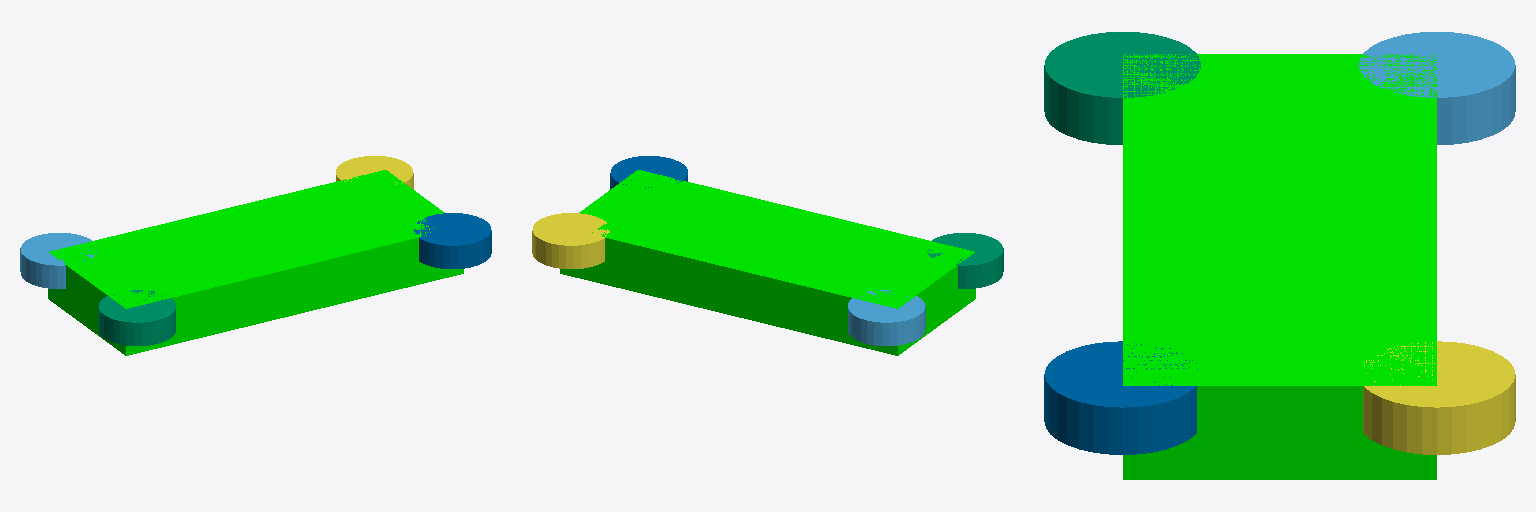
URDF robot description (ev_4wd):
<?xml version="1.0" ?>
<!-- =================================================================================== -->
<!-- |    This document was autogenerated by xacro from ev_4wd.urdf.xacro              | -->
<!-- |    EDITING THIS FILE BY HAND IS NOT RECOMMENDED                                 | -->
<!-- =================================================================================== -->
<robot name="ev_4wd">
  <!-- Base link (chassis) -->
  <link name="chassis">
    <inertial>
      <origin xyz="0 0 0.1"/>
      <mass value="250.0"/>
      <!-- Adjust the mass of the chassis as needed -->
      <inertia ixx="10.0" ixy="0.0" ixz="0.0" iyy="20.0" iyz="0.0" izz="30.0"/>
      <!-- Inertial properties -->
    </inertial>
    <visual>
      <geometry>
        <box size="1.5 0.6 0.2"/>
        <!-- Chassis dimensions: length, width, height -->
      </geometry>
      <material name="green">
        <color rgba="0.0 1.0 0.0 1.0"/>
        <!-- Chassis color: green -->
      </material>
    </visual>
    <collision>
      <geometry>
        <box size="1.5 0.6 0.2"/>
      </geometry>
    </collision>
  </link>
  <!-- Define the rear left wheel -->
  <link name="rear_left_wheel">
    <inertial>
      <origin xyz="0 0 0"/>
      <mass value="10.0"/>
      <!-- Mass of the rear left wheel -->
      <inertia ixx="0.02" ixy="0.0" ixz="0.0" iyy="0.02" iyz="0.0" izz="0.02"/>
      <!-- Inertial properties for the wheel -->
    </inertial>
    <visual>
      <geometry>
        <cylinder length="0.1" radius="0.15"/>
        <!-- Cylinder radius and length for the rear left wheel -->
      </geometry>
      <material name="black"/>
      <!-- Wheel color -->
    </visual>
    <collision>
      <geometry>
        <cylinder length="0.1" radius="0.15"/>
      </geometry>
    </collision>
  </link>
  <!-- Define the rear right wheel -->
  <link name="rear_right_wheel">
    <inertial>
      <origin xyz="0 0 0"/>
      <mass value="10.0"/>
      <!-- Mass of the rear right wheel -->
      <inertia ixx="0.02" ixy="0.0" ixz="0.0" iyy="0.02" iyz="0.0" izz="0.02"/>
      <!-- Inertial properties for the wheel -->
    </inertial>
    <visual>
      <geometry>
        <cylinder length="0.1" radius="0.15"/>
        <!-- Cylinder radius and length for the rear right wheel -->
      </geometry>
      <material name="black"/>
    </visual>
    <collision>
      <geometry>
        <cylinder length="0.1" radius="0.15"/>
      </geometry>
    </collision>
  </link>
  <!-- Define the front left wheel -->
  <link name="front_left_wheel">
    <inertial>
      <origin xyz="0 0 0"/>
      <mass value="10.0"/>
      <!-- Mass of the front left wheel -->
      <inertia ixx="0.02" ixy="0.0" ixz="0.0" iyy="0.02" iyz="0.0" izz="0.02"/>
      <!-- Inertial properties for the wheel -->
    </inertial>
    <visual>
      <geometry>
        <cylinder length="0.1" radius="0.15"/>
        <!-- Cylinder radius and length for the front left wheel -->
      </geometry>
      <material name="black"/>
    </visual>
    <collision>
      <geometry>
        <cylinder length="0.1" radius="0.15"/>
      </geometry>
    </collision>
  </link>
  <!-- Define the front right wheel -->
  <link name="front_right_wheel">
    <inertial>
      <origin xyz="0 0 0"/>
      <mass value="10.0"/>
      <!-- Mass of the front right wheel -->
      <inertia ixx="0.02" ixy="0.0" ixz="0.0" iyy="0.02" iyz="0.0" izz="0.02"/>
      <!-- Inertial properties for the wheel -->
    </inertial>
    <visual>
      <geometry>
        <cylinder length="0.1" radius="0.15"/>
        <!-- Cylinder radius and length for the front right wheel -->
      </geometry>
      <material name="black"/>
    </visual>
    <collision>
      <geometry>
        <cylinder length="0.1" radius="0.15"/>
      </geometry>
    </collision>
  </link>
  <!-- Rear left wheel joint -->
  <joint name="rear_left_wheel_joint" type="continuous">
    <parent link="chassis"/>
    <child link="rear_left_wheel"/>
    <origin rpy="0 0 0" xyz="-0.7 0.3 0.05"/>
    <!-- Position of the rear left wheel relative to the chassis -->
    <axis xyz="0 1 0"/>
    <!-- Axis of rotation for the wheel -->
  </joint>
  <!-- Rear right wheel joint -->
  <joint name="rear_right_wheel_joint" type="continuous">
    <parent link="chassis"/>
    <child link="rear_right_wheel"/>
    <origin rpy="0 0 0" xyz="-0.7 -0.3 0.05"/>
    <!-- Position of the rear right wheel relative to the chassis -->
    <axis xyz="0 1 0"/>
  </joint>
  <!-- Front left wheel joint -->
  <joint name="front_left_wheel_joint" type="continuous">
    <parent link="chassis"/>
    <child link="front_left_wheel"/>
    <origin rpy="0 0 0" xyz="0.7 0.3 0.05"/>
    <!-- Position of the front left wheel relative to the chassis -->
    <axis xyz="0 1 0"/>
  </joint>
  <!-- Front right wheel joint -->
  <joint name="front_right_wheel_joint" type="continuous">
    <parent link="chassis"/>
    <child link="front_right_wheel"/>
    <origin rpy="0 0 0" xyz="0.7 -0.3 0.05"/>
    <!-- Position of the front right wheel relative to the chassis -->
    <axis xyz="0 1 0"/>
  </joint>
</robot>

--- Render facts (derived) ---
Views: 3 orthographic renders of the robot side by side, from view 1: azimuth 30°, elevation 25°; view 2: azimuth 150°, elevation 25°; view 3: azimuth 270°, elevation 25°.
Model ev_4wd with 5 links and 4 joints (4 continuous), rooted at chassis, posed every joint at zero.
Links seen in each view (by area): view 1: chassis, front_right_wheel, rear_right_wheel, rear_left_wheel, front_left_wheel; view 2: chassis, front_left_wheel, rear_left_wheel, rear_right_wheel, front_right_wheel; view 3: chassis, front_left_wheel, front_right_wheel, rear_left_wheel, rear_right_wheel.
Boxes of the visible links, left/top/right/bottom form: chassis: left=48, top=170, right=463, bottom=355; front_right_wheel: left=414, top=213, right=491, bottom=268; rear_right_wheel: left=98, top=290, right=175, bottom=345; rear_left_wheel: left=20, top=233, right=97, bottom=288; front_left_wheel: left=336, top=156, right=413, bottom=189; chassis: left=560, top=170, right=975, bottom=355; front_left_wheel: left=532, top=213, right=609, bottom=268; rear_left_wheel: left=848, top=290, right=925, bottom=345; rear_right_wheel: left=927, top=233, right=1003, bottom=288; front_right_wheel: left=610, top=156, right=687, bottom=189; chassis: left=1123, top=54, right=1436, bottom=479; front_left_wheel: left=1363, top=341, right=1515, bottom=454; front_right_wheel: left=1044, top=341, right=1197, bottom=454; rear_left_wheel: left=1359, top=32, right=1515, bottom=144; rear_right_wheel: left=1044, top=32, right=1200, bottom=144.
Size in the robot's own frame: 1.7 by 0.9 by 0.2 metres.
Geometry: primitives only (box / cylinder / sphere), no mesh files.